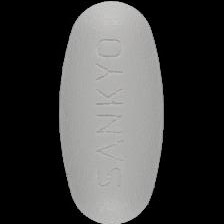55154-6127: (0, 0, 224, 224)
